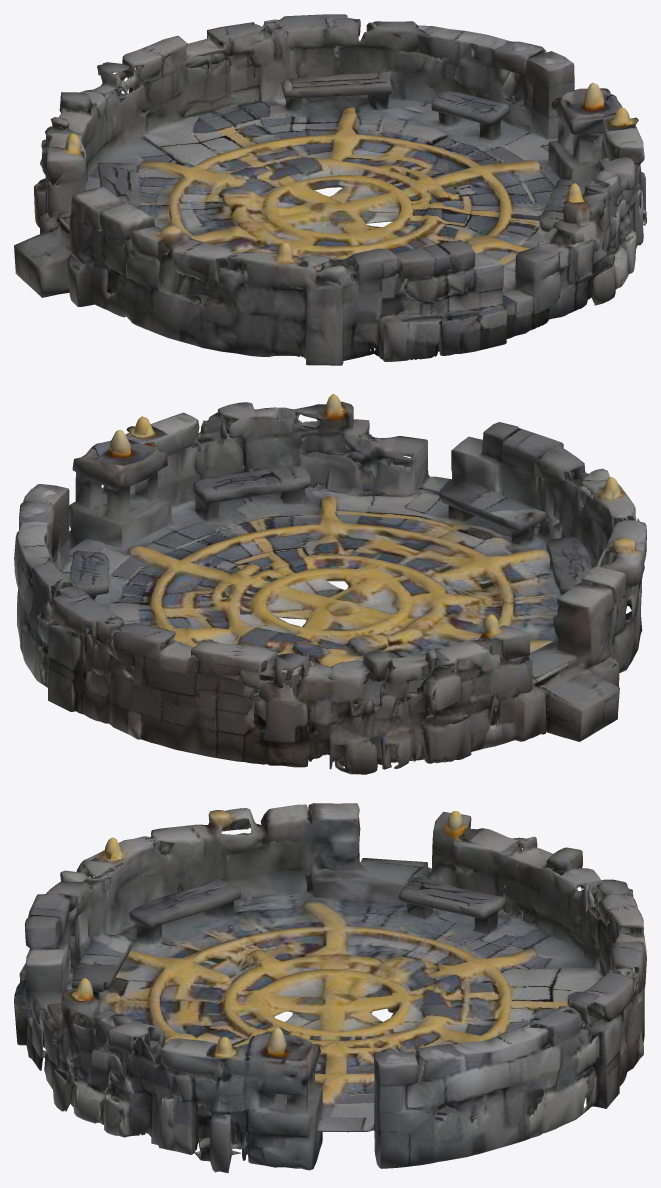
The model's file is arena.fbx.
3 views of the same model, one above another, from view 1: azimuth 30°, elevation 25°; view 2: azimuth 150°, elevation 25°; view 3: azimuth 270°, elevation 25° (orthographic). The views are drawn at different scales.
Visible parts, largest first — view 1: tripo_node_0a935565; view 2: tripo_node_0a935565; view 3: tripo_node_0a935565.
Part boxes in pixels (box(x1,y1,x2,y2)): tripo_node_0a935565: box(14, 14, 646, 365); tripo_node_0a935565: box(14, 394, 646, 774); tripo_node_0a935565: box(14, 803, 646, 1173).
Bounding box in the file's own units: 100 × 95.22 × 22.6.
Materials: 1 (1 with a texture image).
